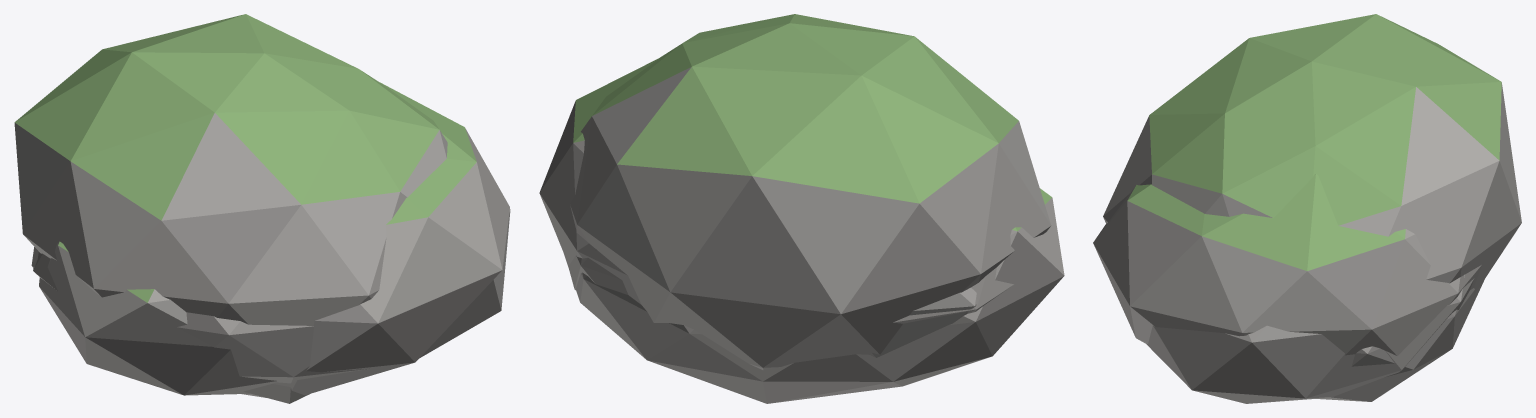
Rendered from rocks.glb.
The picture shows the model from 3 angles, left to right: view 1: azimuth 30°, elevation 25°; view 2: azimuth 150°, elevation 25°; view 3: azimuth 270°, elevation 25°; orthographic projection. The views are drawn at different scales.
Parts seen in each view (by area): view 1: rock_2, rock_0, rock_1, rock_3; view 2: rock_2, rock_1, rock_0, rock_3; view 3: rock_2, rock_0, rock_3, rock_1.
Part boxes in pixels (x1,y1,x2,y2): rock_2: (14,14,447,403); rock_0: (31,82,509,397); rock_1: (39,241,277,395); rock_3: (33,209,510,383); rock_2: (570,14,1051,370); rock_1: (564,188,1064,403); rock_0: (539,58,977,357); rock_3: (567,249,1013,323); rock_2: (1103,14,1521,295); rock_0: (1093,174,1481,355); rock_3: (1146,274,1474,403); rock_1: (1316,279,1484,401).
Bounding box in the file's own units: 2.62 × 1.8 × 2.34.
